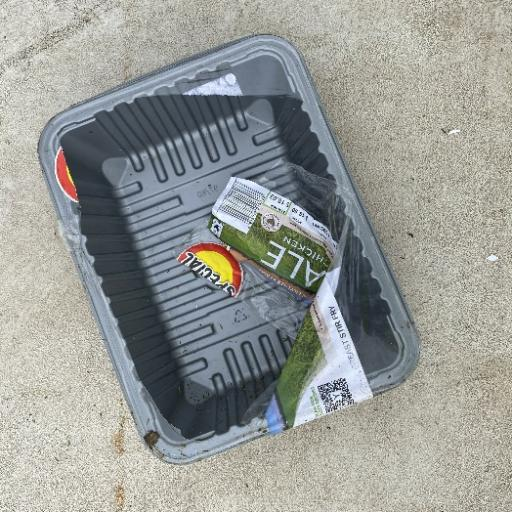Plastic: (36, 33, 422, 464)
